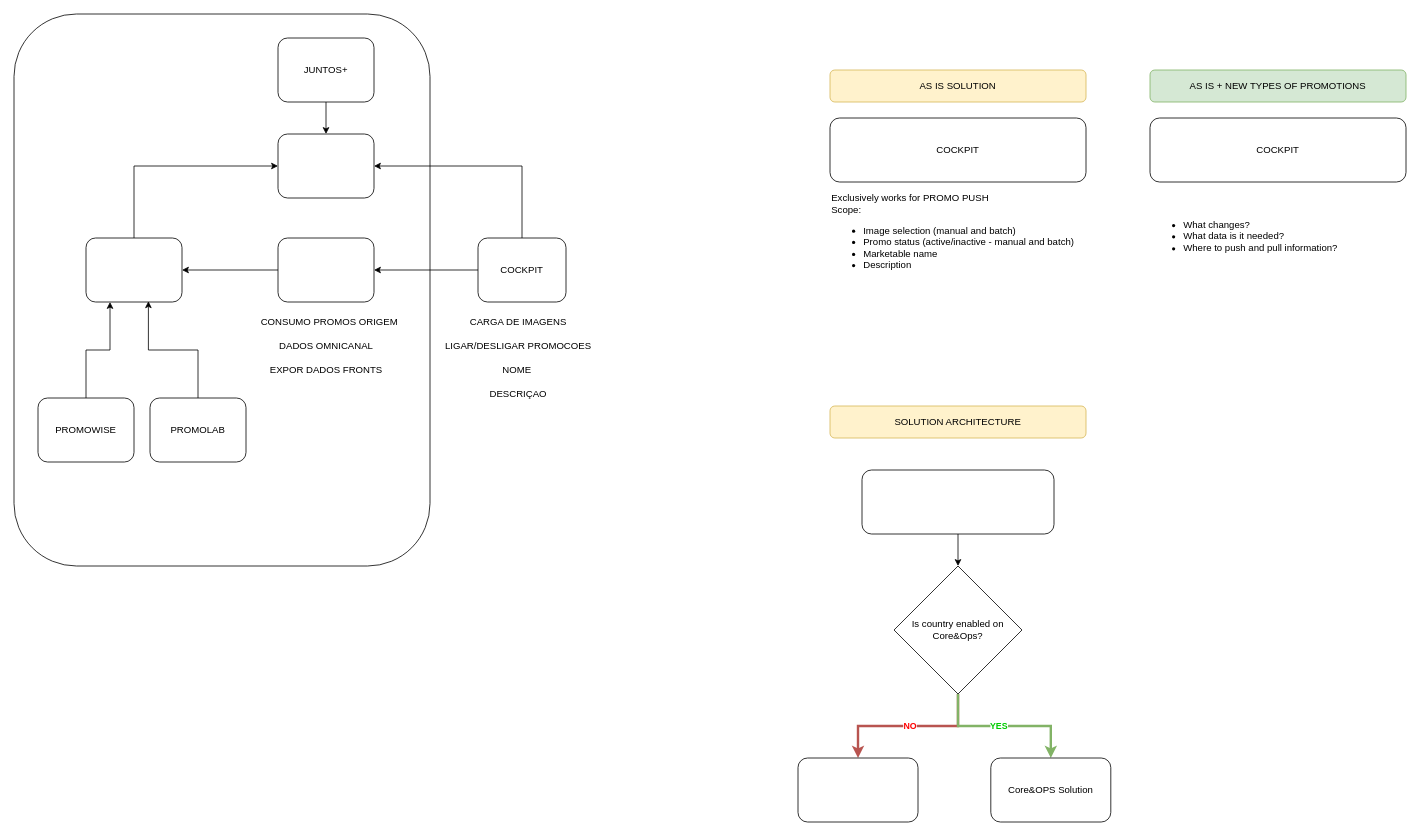
Some shapes in this 1420 by 836 pixel diagram are drawn without their labels. The centre of each missing label's shape, as x and y in pixels:
COCKPIT Promo Module: the point at 957,501
CORE & OPS: the point at 325,269
EDB: the point at 325,165
Legacy EDB Solution: the point at 857,789
ORIGEN: the point at 133,269
